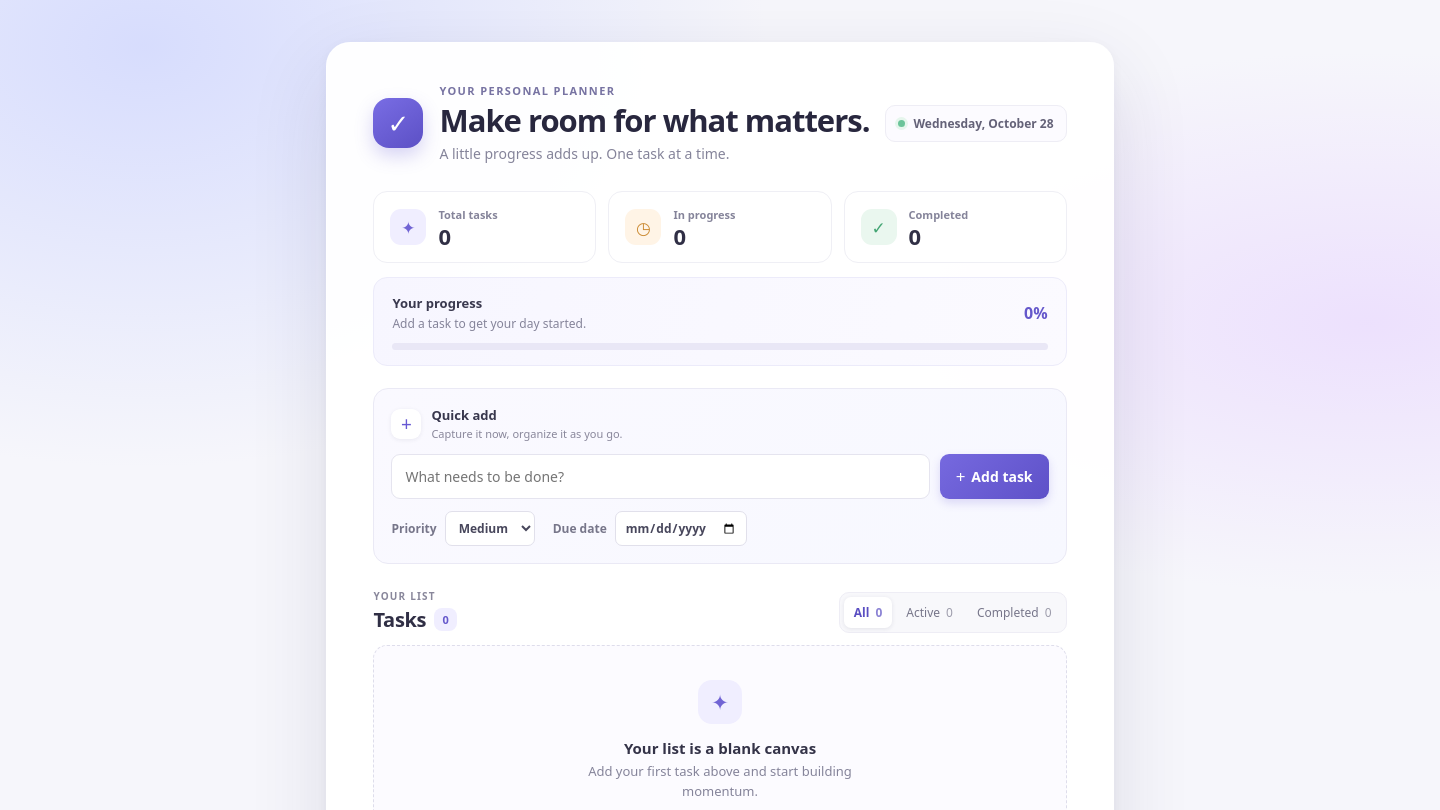
Test: filters tasks by active and completed status
This screenshot has width=1440, height=810.
In the field named "Task name": (660, 477) 391,454 -> 930,499, type "First task"
Click the button "+ Add task": (994, 477) 940,454 -> 1048,499
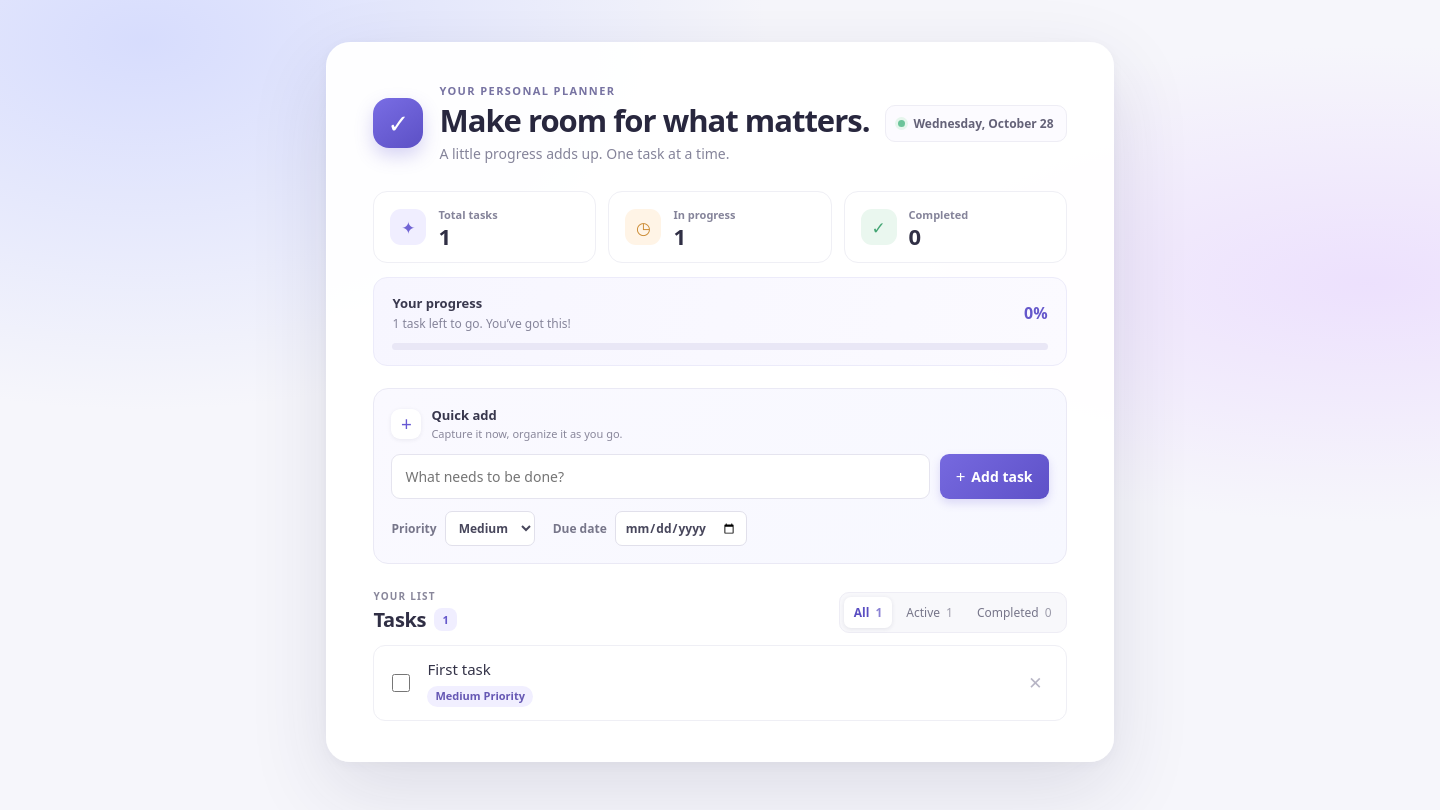
In the field named "Task name": (660, 477) 391,454 -> 930,499, type "Second task"
Click the button "+ Add task": (994, 477) 940,454 -> 1048,499
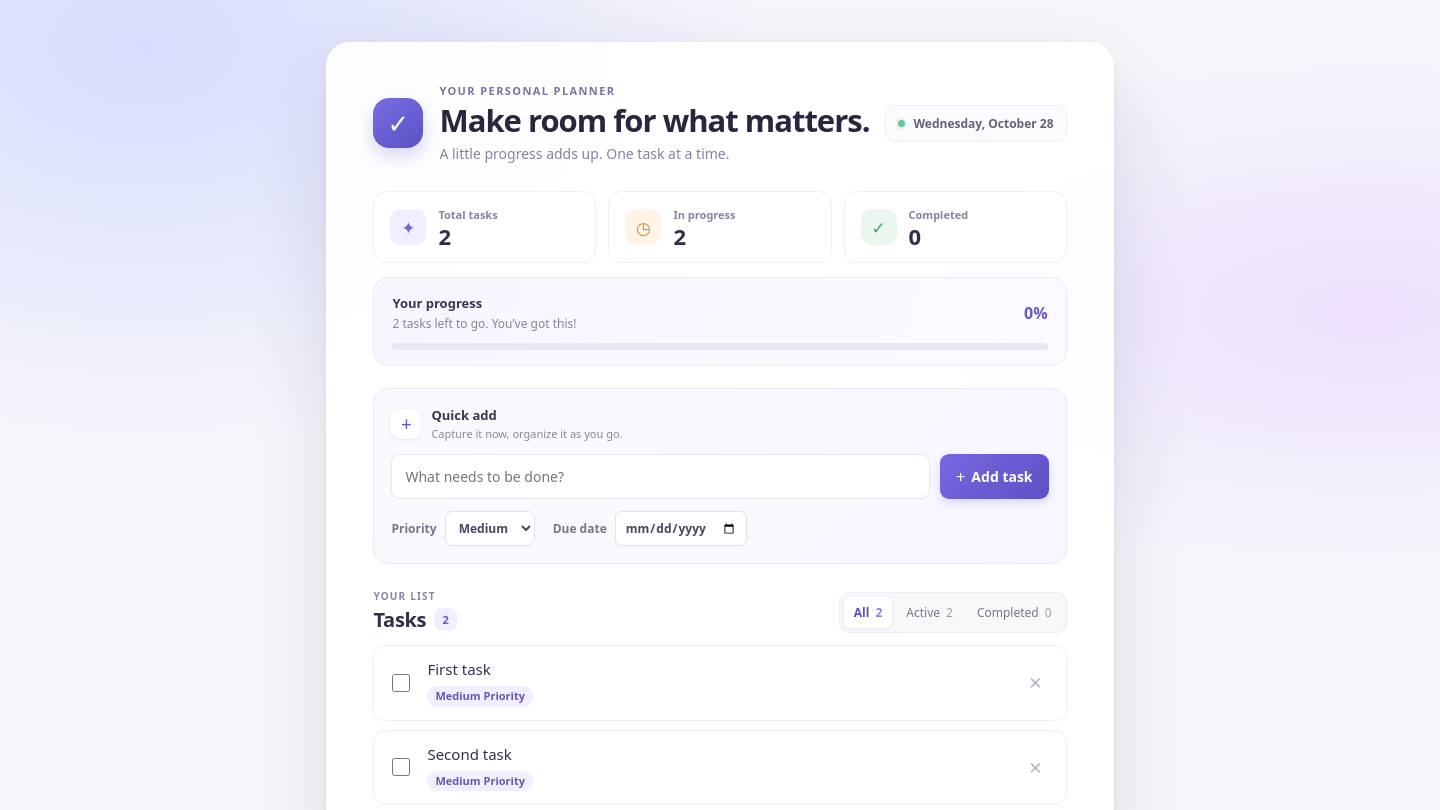
Click the checkbox named "Mark First task as complete": (401, 683) 392,674 -> 410,692
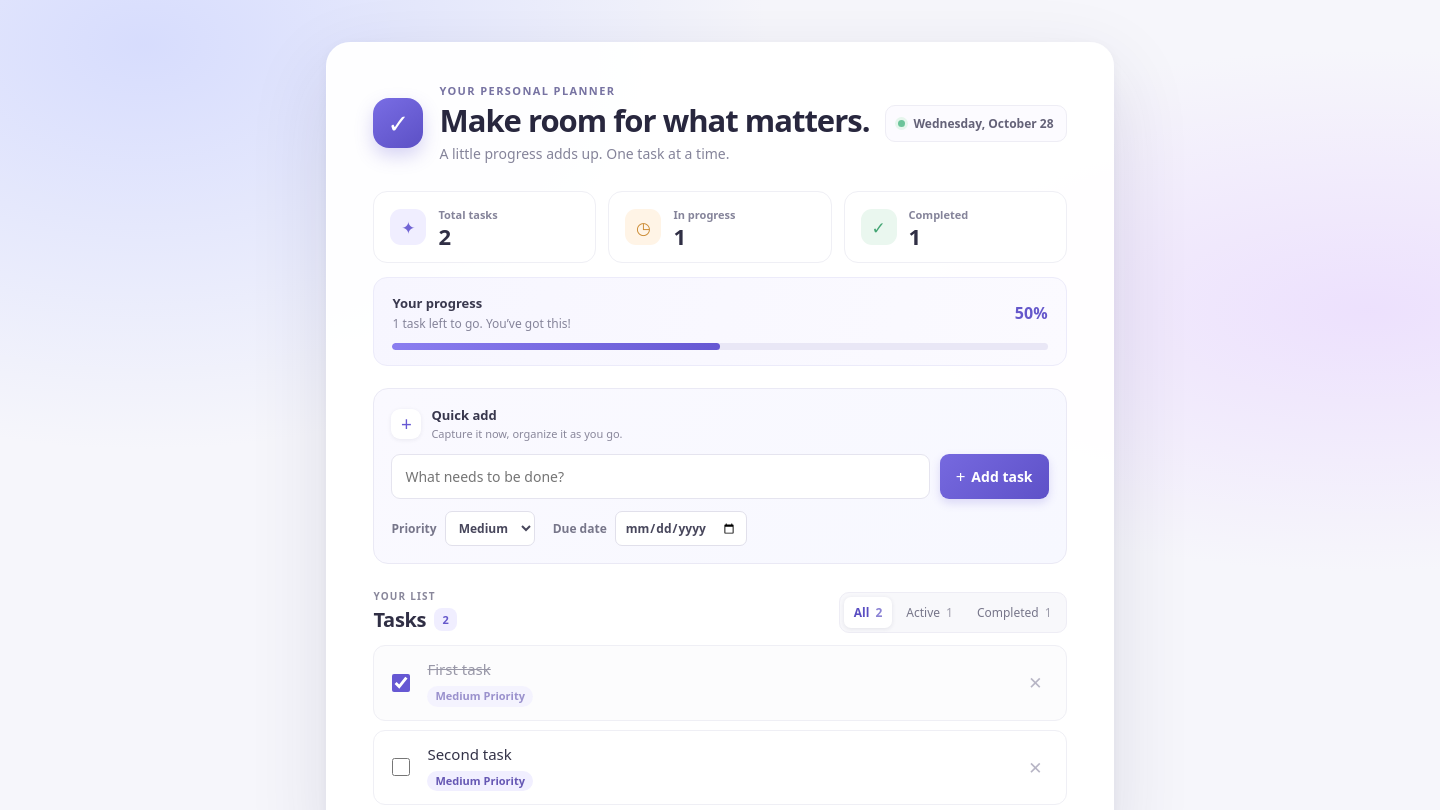
Click the button "Active 1": (930, 613) 896,597 -> 963,628
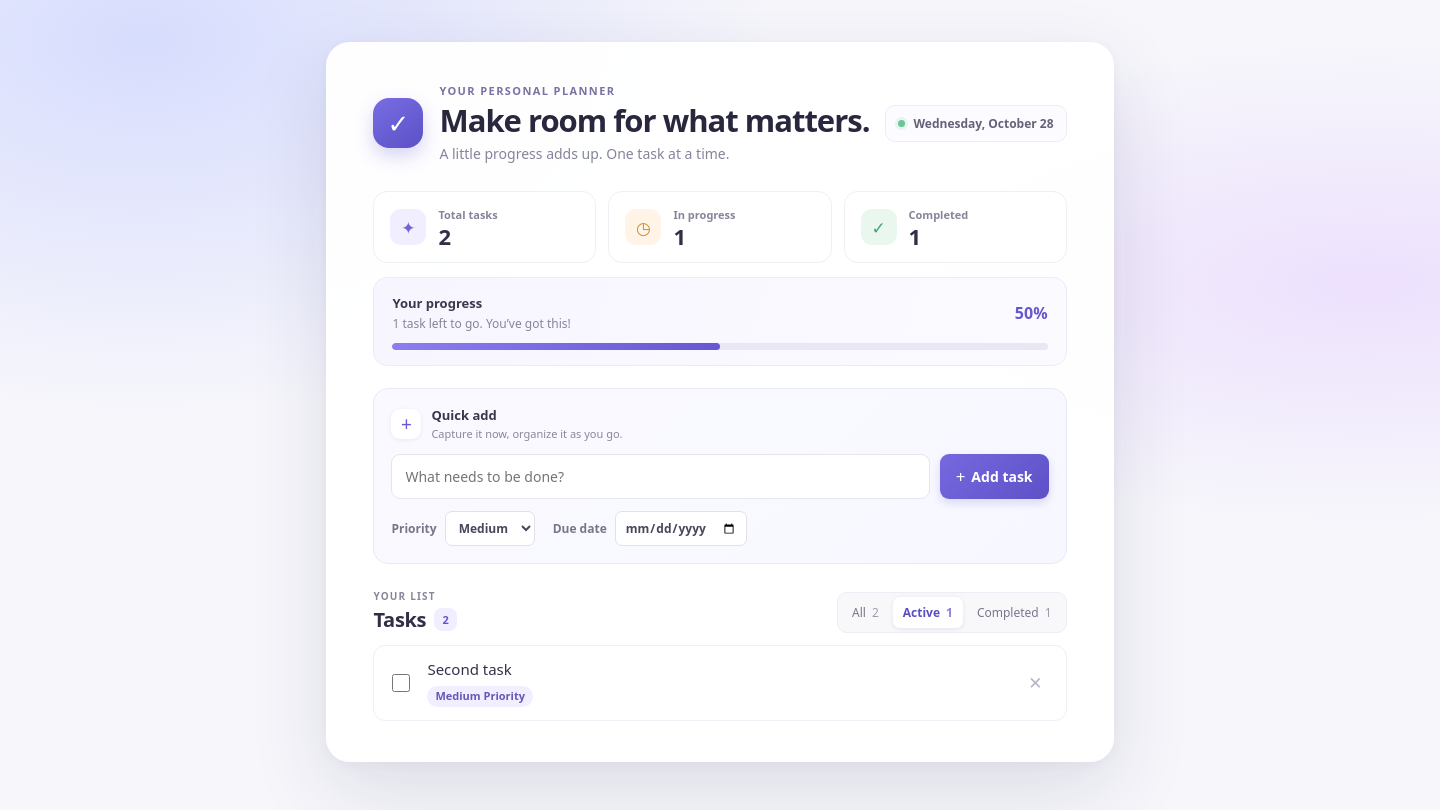
Expected: the text "Second task" is shown, 427,659 -> 512,679
Expected: the text "First task" is gone
Click the button "Completed 1": (1014, 613) 967,597 -> 1062,628
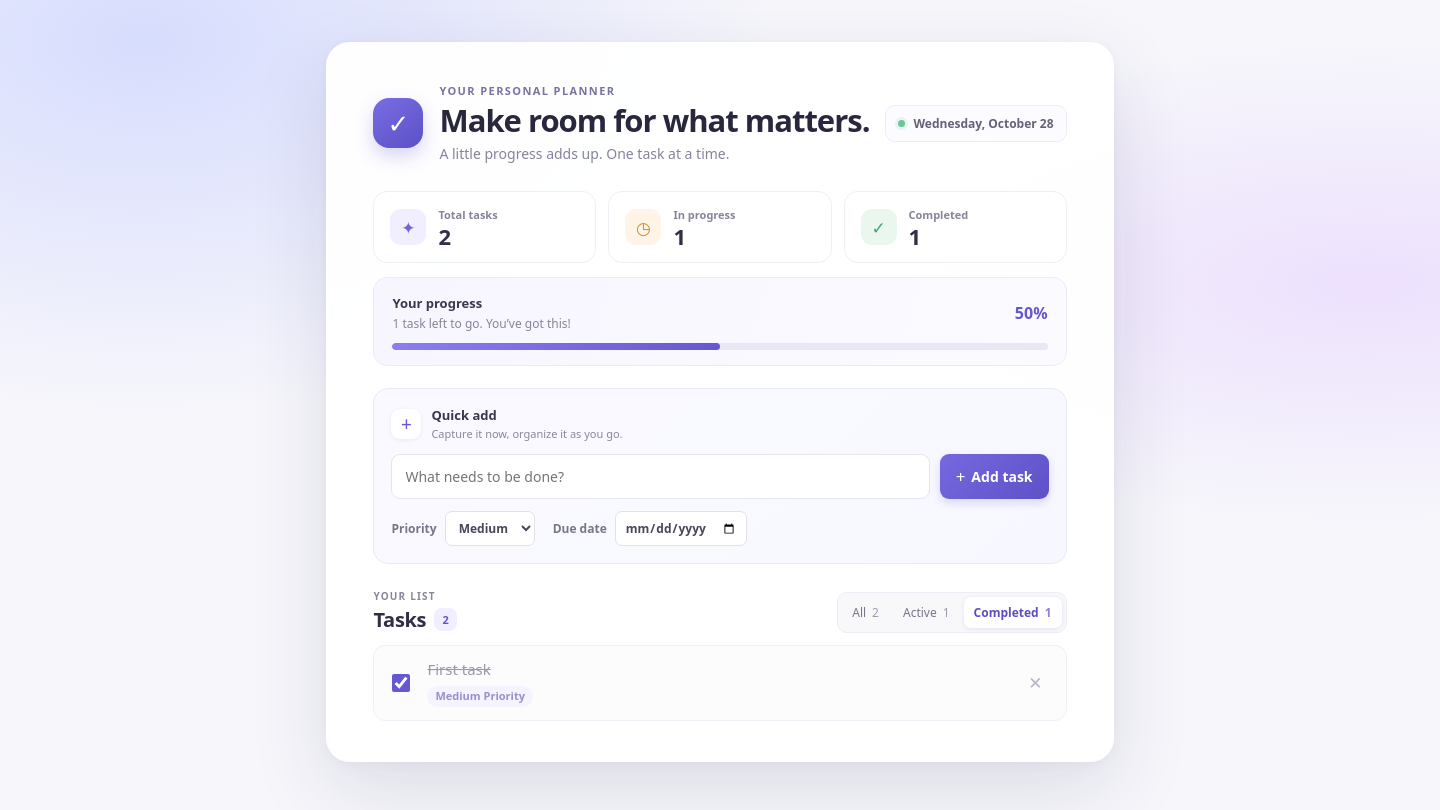
Expected: the text "First task" is shown, 427,659 -> 491,679
Expected: the text "Second task" is gone
Click the button "All 2": (866, 613) 842,597 -> 889,628
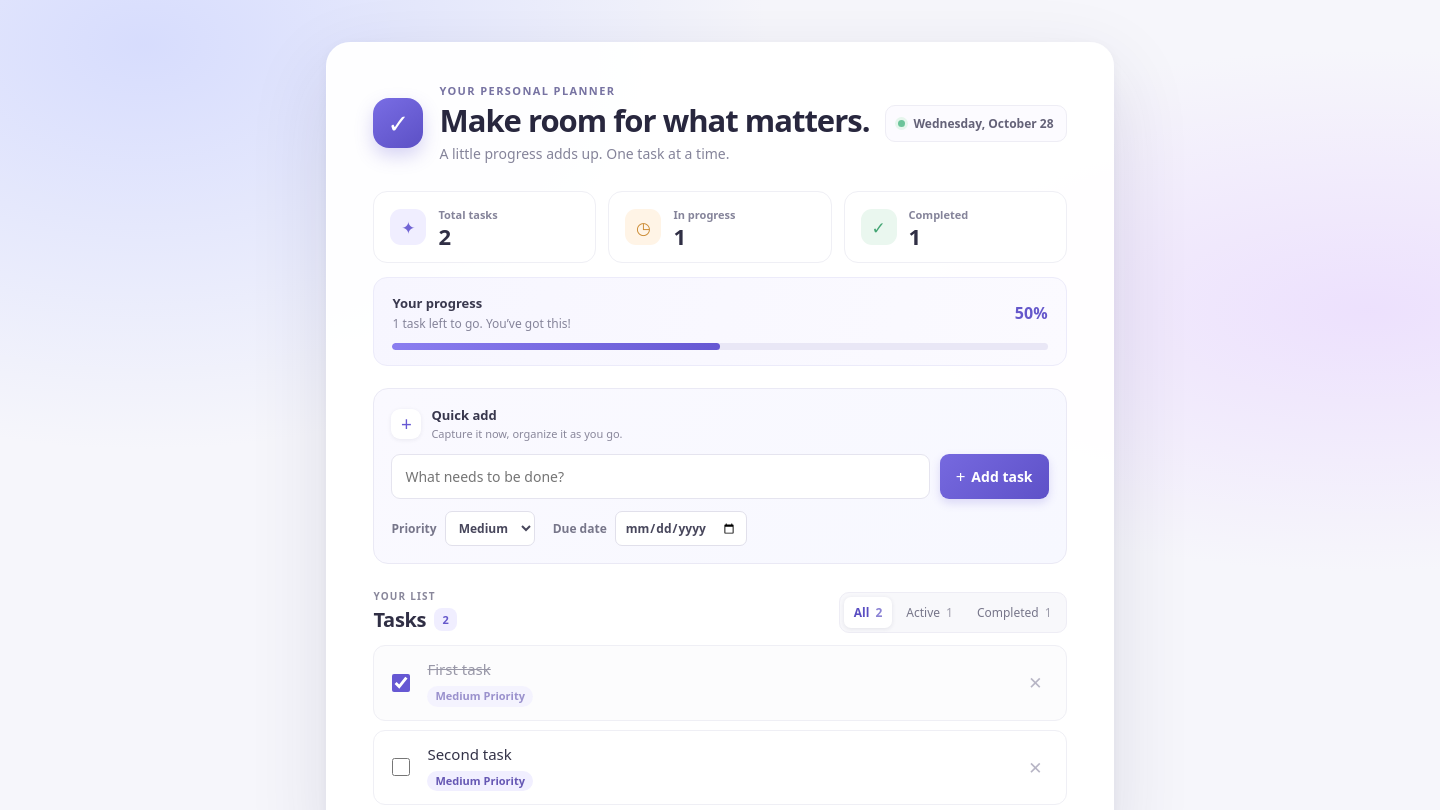
Expected: the text "First task" is shown, 427,659 -> 491,679
Expected: the text "Second task" is shown, 427,744 -> 512,764
